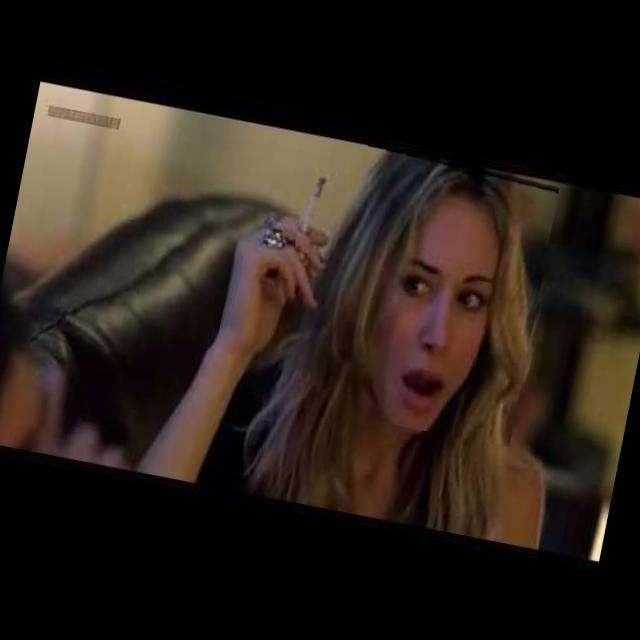cigarette: (294, 158, 338, 256)
